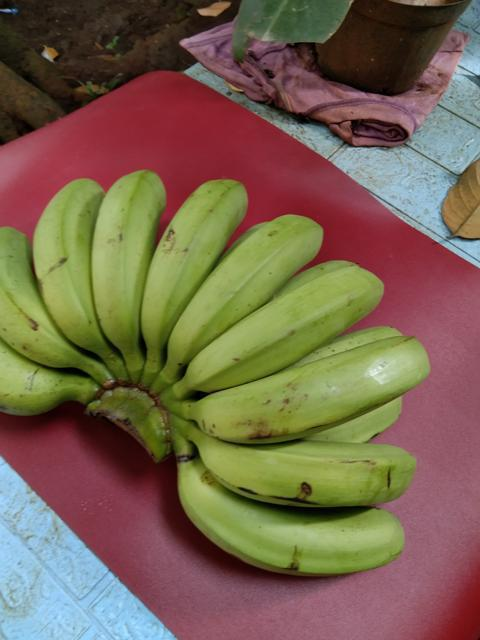freshunripe: (164, 204, 324, 393), (184, 259, 404, 396), (175, 477, 411, 582), (80, 164, 177, 359), (28, 171, 121, 351)
unripe: (205, 329, 433, 448), (186, 424, 424, 510), (0, 218, 87, 369), (0, 342, 68, 413)
